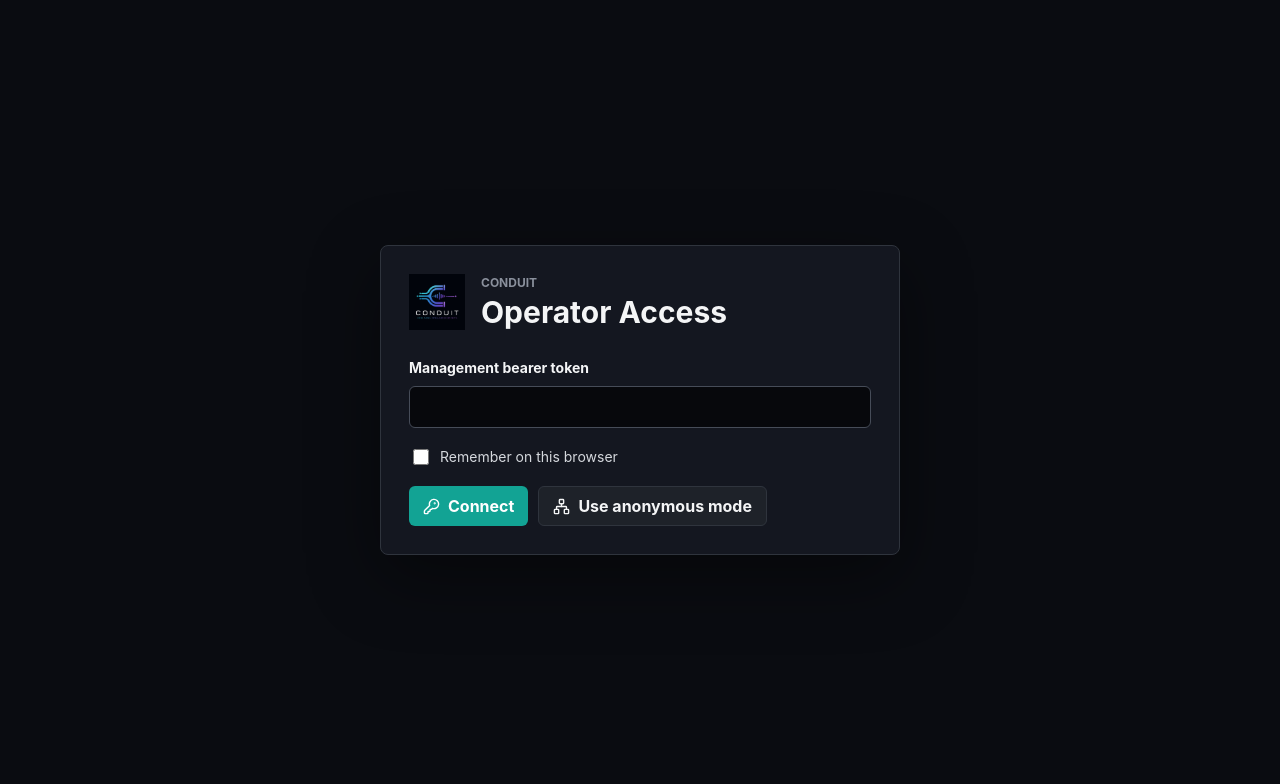
Test: Pipelines graph editor › validates pipeline edits through the API by default
The image size is (1280, 784).
Click the button "Use anonymous mode" at (653, 506), box [538, 486, 767, 526]
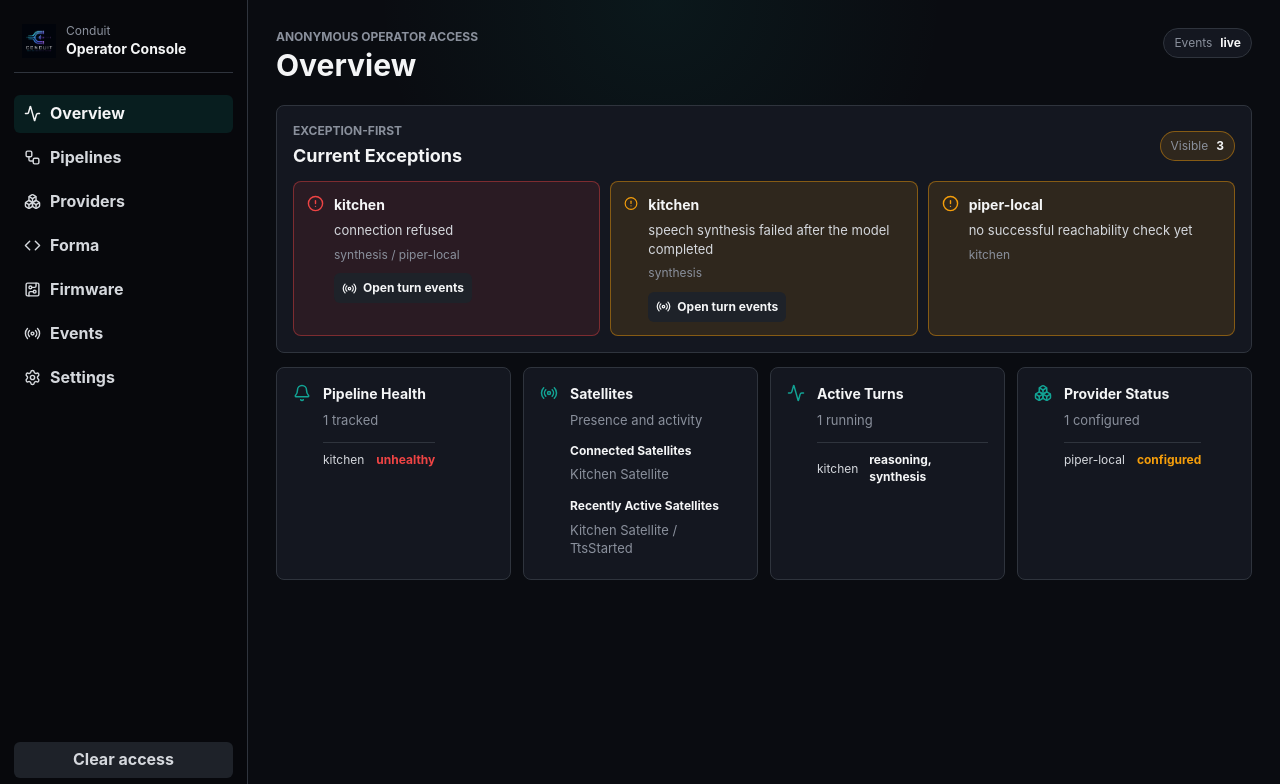
Click the tab "Pipelines" at (124, 158), box [14, 139, 233, 177]
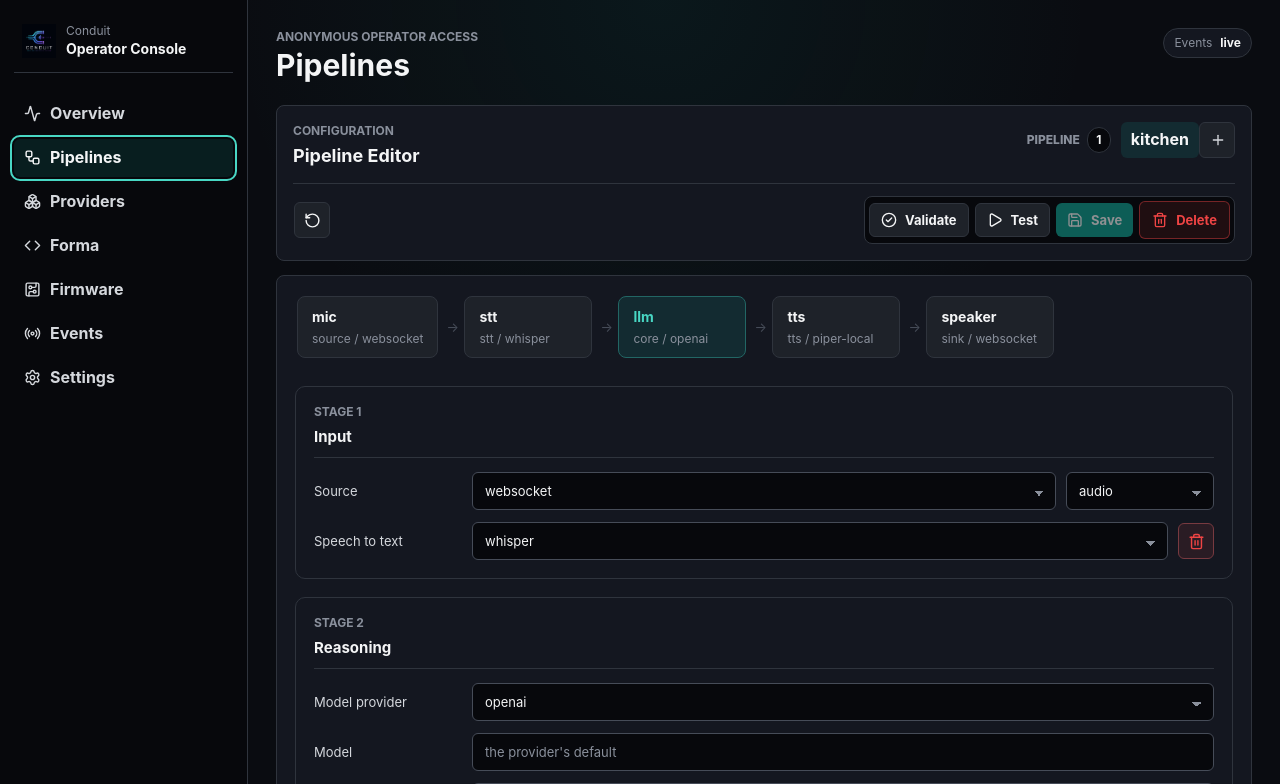
Click the button with aria-label "Validate pipeline" at (919, 220), box [869, 204, 969, 238]
(page scrolled)
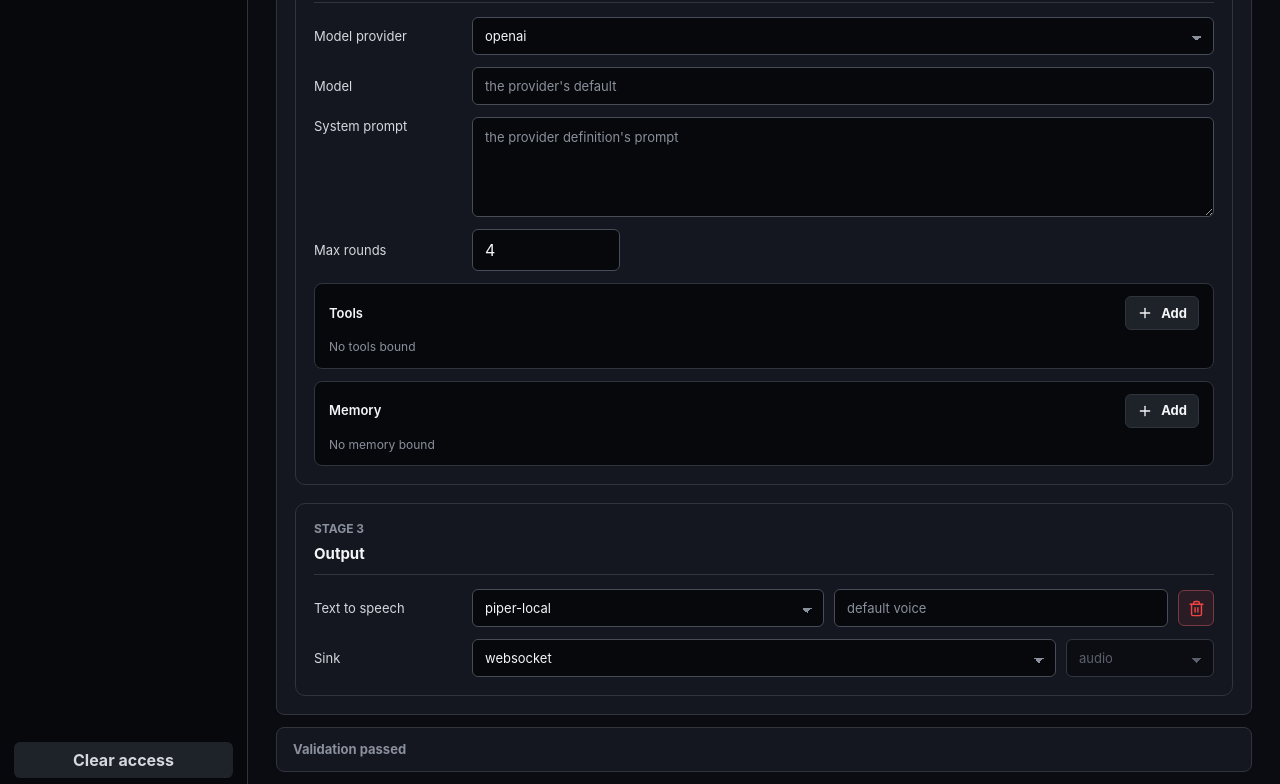
Check: the text "Validation passed" is shown, box [293, 740, 406, 759]
